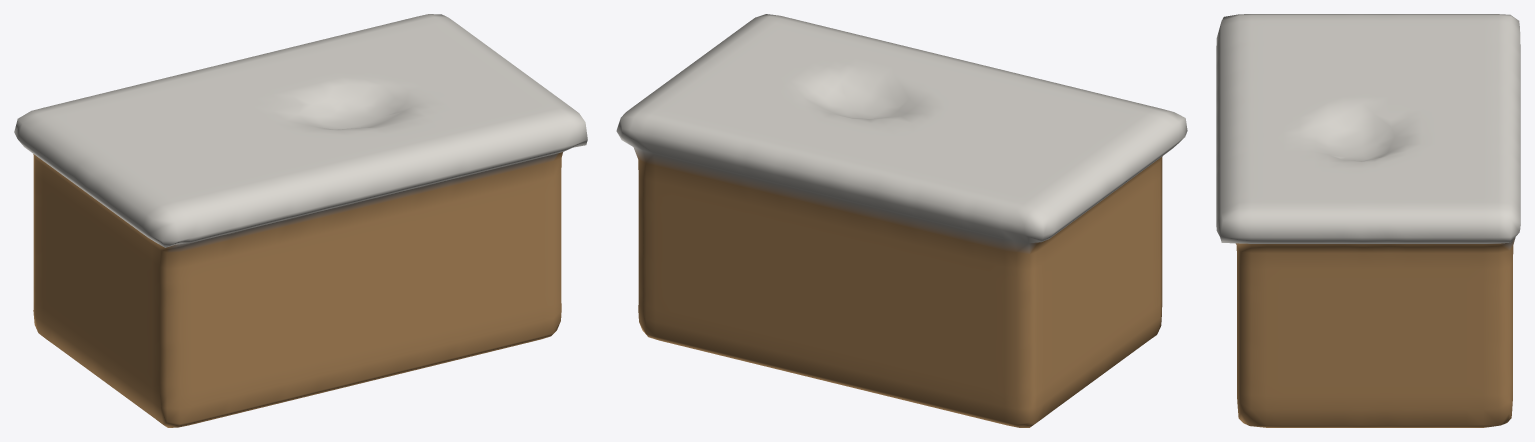
The model's file is counter.glb.
The picture shows the model from 3 angles, left to right: view 1: azimuth 30°, elevation 25°; view 2: azimuth 150°, elevation 25°; view 3: azimuth 270°, elevation 25°; orthographic projection.
Parts seen in each view (by area): view 1: counter; view 2: counter; view 3: counter.
Boxes of the visible parts, x1,y1,x2,y2 form: counter: (14,14,587,427); counter: (616,14,1187,427); counter: (1216,14,1520,427).
Bounding box in the file's own units: 1.42 × 0.697 × 0.8595.
